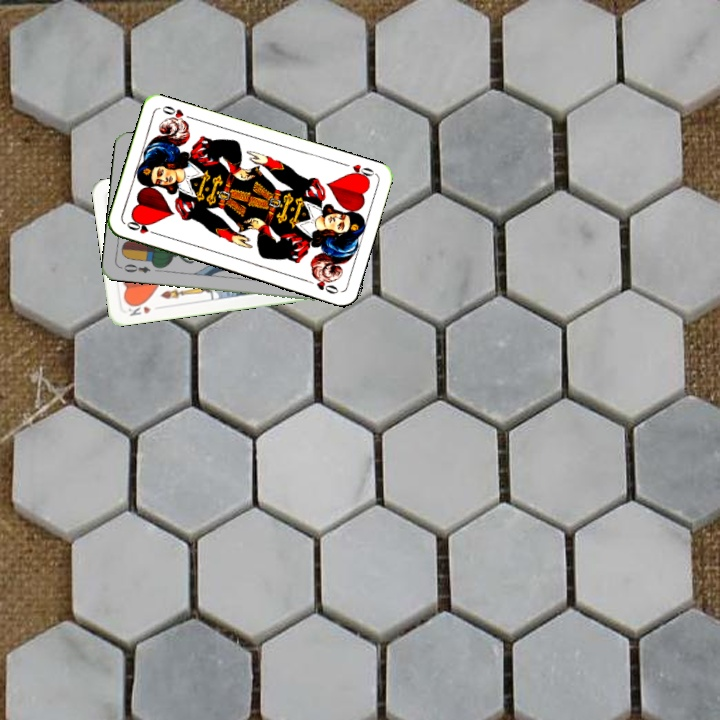EO: (116, 260, 153, 276)
HK: (124, 298, 153, 318)
HO: (338, 159, 377, 183), (122, 217, 162, 238)
